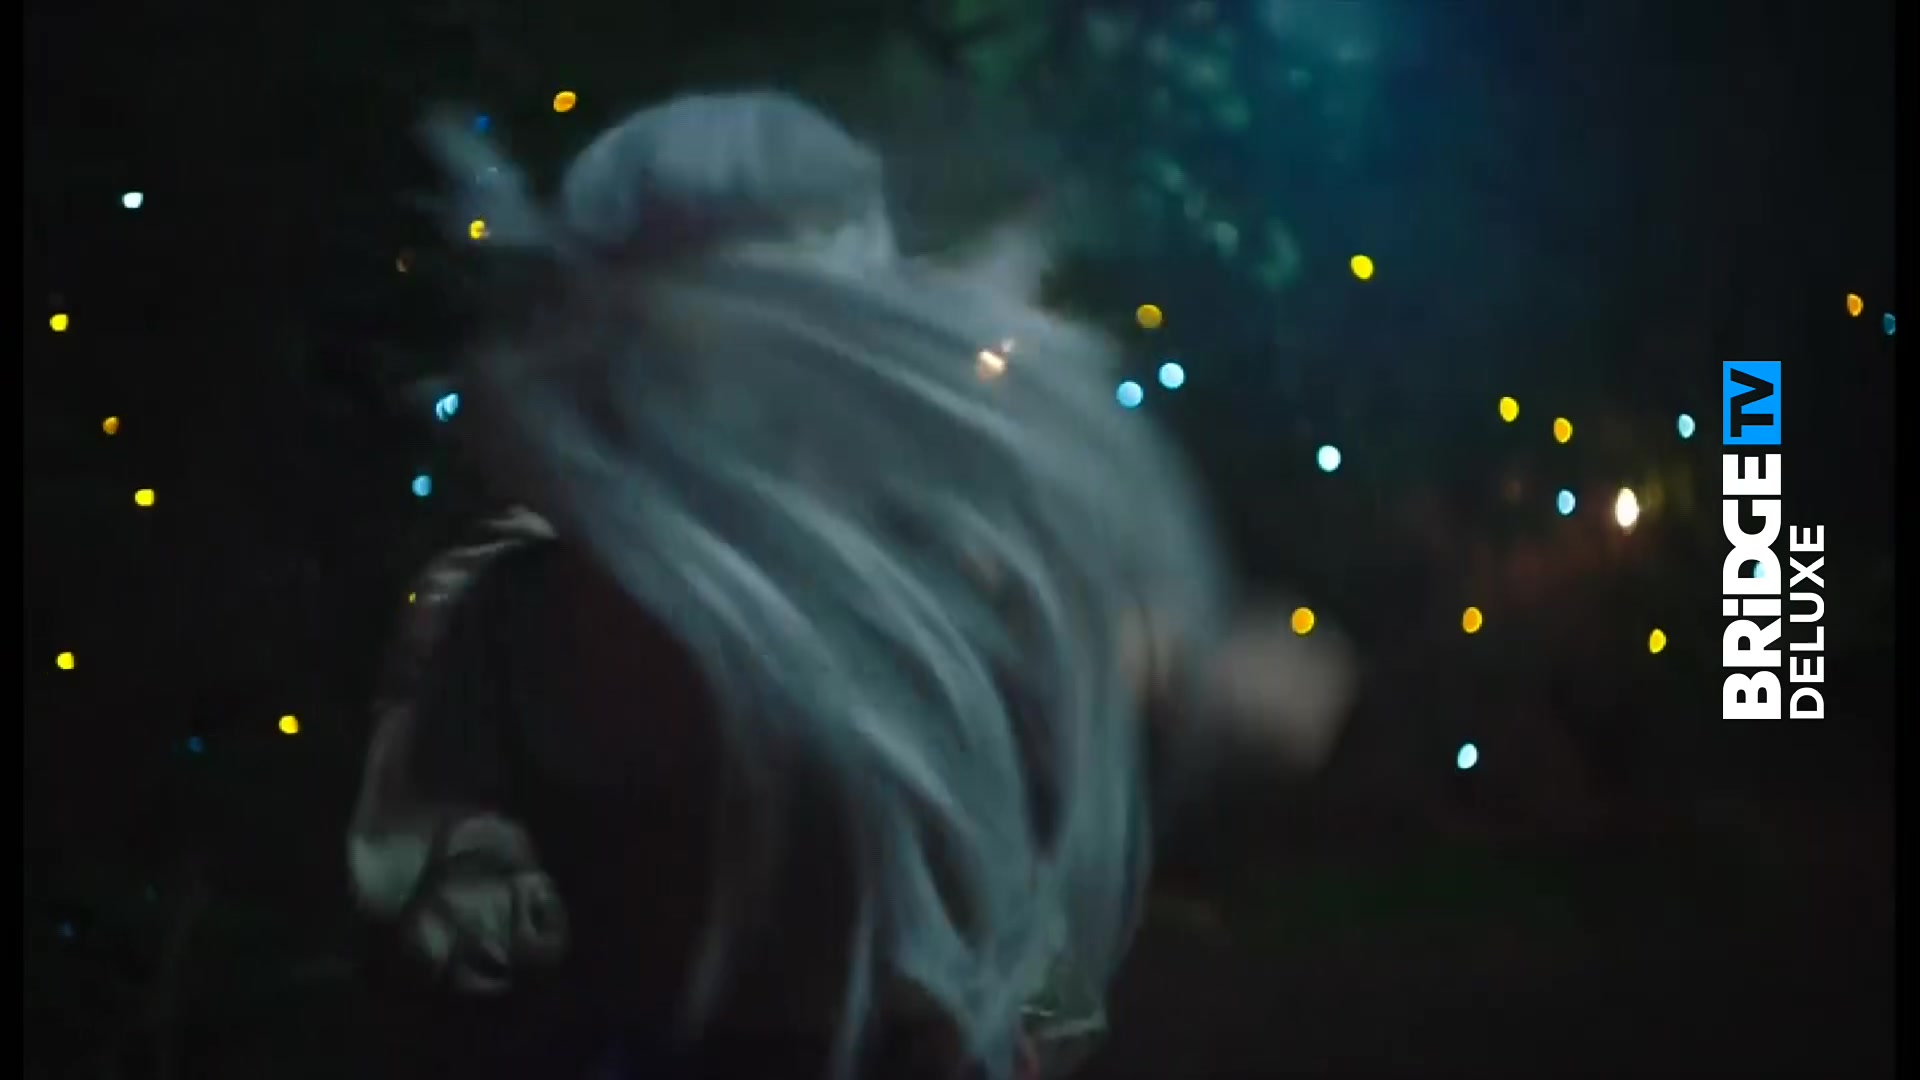Bridge_TV_Deluxe: (1718, 353, 1833, 732)
